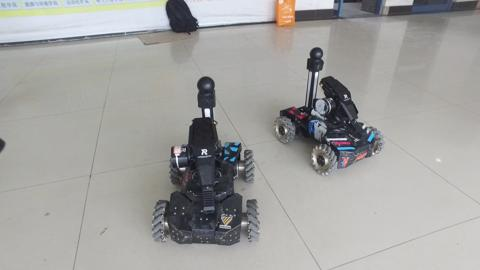chariot: (148, 75, 265, 248), (273, 45, 386, 178)
